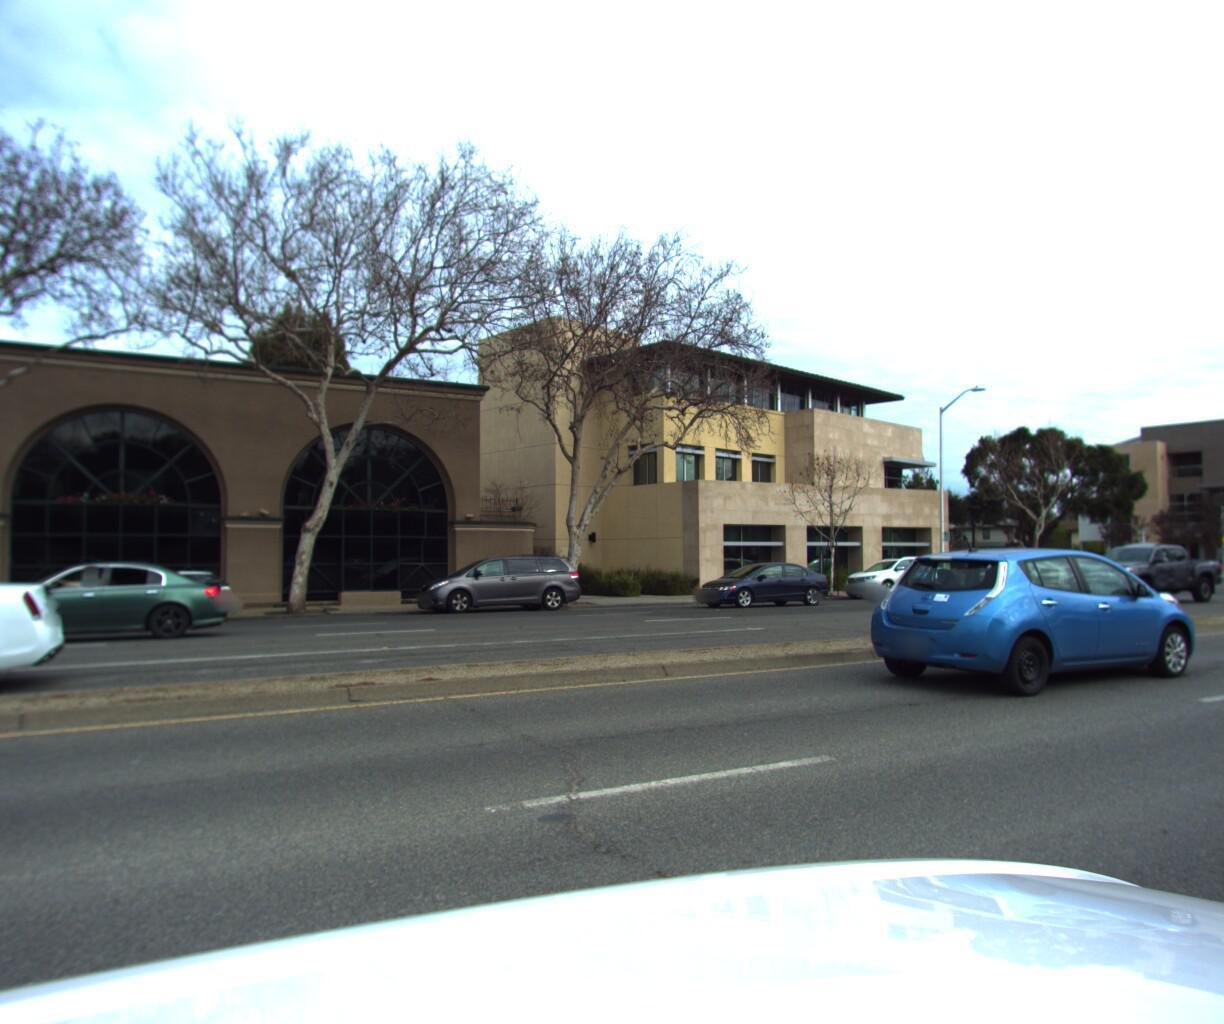car: (848, 535, 1223, 704), (48, 565, 242, 633), (408, 550, 588, 614), (1063, 537, 1224, 601), (685, 558, 832, 605), (833, 552, 952, 600)
